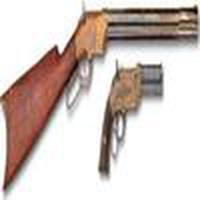gun: (2, 6, 193, 183)
